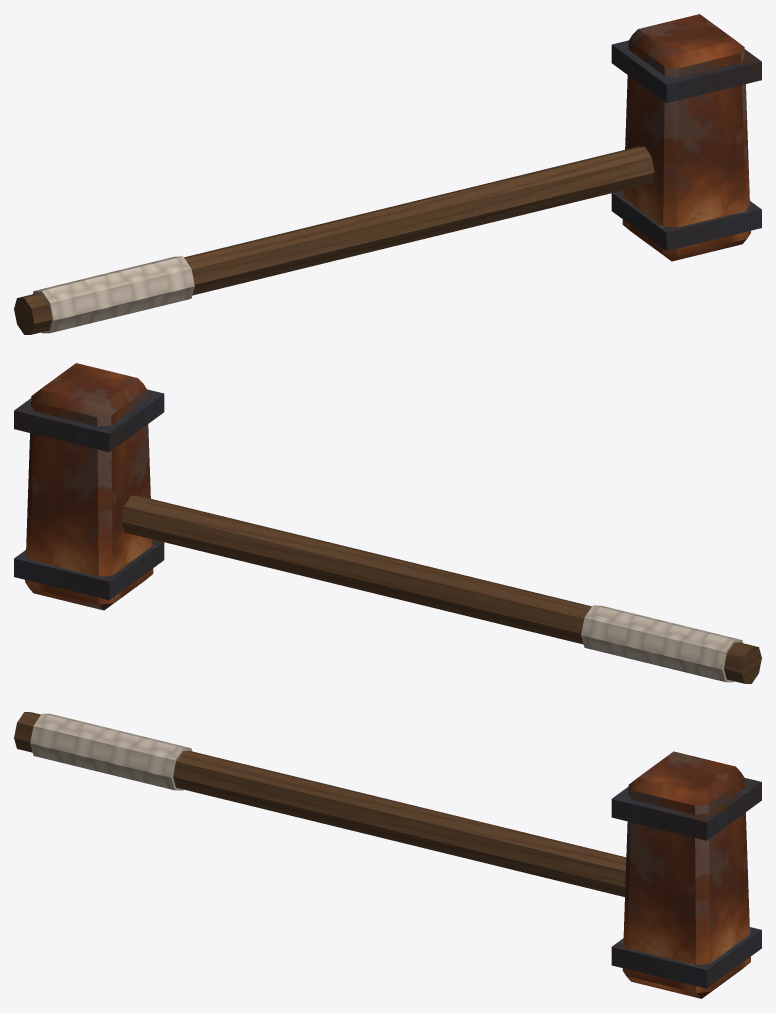
The model's file is Hammer_Old.glb.
3 views of the same model, one above another, from view 1: azimuth 30°, elevation 25°; view 2: azimuth 150°, elevation 25°; view 3: azimuth 330°, elevation 25° (orthographic).
Parts seen in each view (by area): view 1: Hammer_Old; view 2: Hammer_Old; view 3: Hammer_Old.
Part boxes in pixels (x1,y1,x2,y2): Hammer_Old: (14, 14, 761, 334); Hammer_Old: (14, 363, 761, 683); Hammer_Old: (14, 712, 761, 998).
Bounding box in the file's own units: 0.804 × 0.22 × 0.108.
4 materials, 4 textured.
